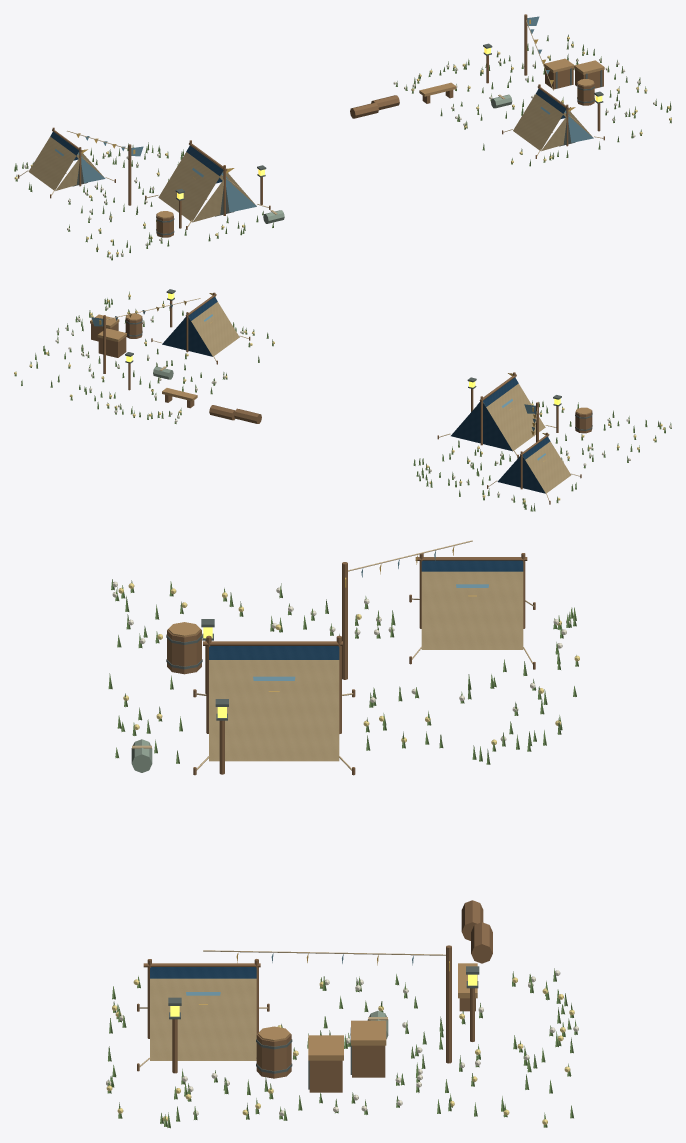
File: camp-kit.glb
The picture shows the model from 3 angles, top to bottom: view 1: azimuth 30°, elevation 25°; view 2: azimuth 150°, elevation 25°; view 3: azimuth 270°, elevation 25°; orthographic projection. The views are drawn at different scales.
Visible parts, largest first — view 1: camp-Camp-warm-canvas, camp-Camp-oak, camp-Camp-meadow-grass, camp-Camp-blue-stripe, camp-Camp-cut-wood, camp-Camp-blue-canvas, camp-Camp-iron, camp-Camp-pale-flowers, camp-Camp-meadow-flowers, camp-Camp-bedroll, camp-Camp-rope; view 2: camp-Camp-warm-canvas, camp-Camp-blue-canvas, camp-Camp-oak, camp-Camp-meadow-grass, camp-Camp-cut-wood, camp-Camp-meadow-flowers, camp-Camp-pale-flowers, camp-Camp-iron; view 3: camp-Camp-warm-canvas, camp-Camp-oak, camp-Camp-meadow-grass, camp-Camp-blue-canvas, camp-Camp-cut-wood, camp-Camp-pale-flowers, camp-Camp-meadow-flowers, camp-Camp-iron, camp-Camp-rope.
Boxes of the visible parts, left/top/right/bottom form: camp-Camp-warm-canvas: left=28, top=94, right=592, bottom=222; camp-Camp-oak: left=18, top=14, right=604, bottom=237; camp-Camp-meadow-grass: left=14, top=34, right=671, bottom=260; camp-Camp-blue-stripe: left=55, top=16, right=593, bottom=212; camp-Camp-cut-wood: left=157, top=58, right=604, bottom=218; camp-Camp-blue-canvas: left=50, top=89, right=570, bottom=183; camp-Camp-iron: left=156, top=43, right=603, bottom=235; camp-Camp-pale-flowers: left=24, top=58, right=655, bottom=258; camp-Camp-meadow-flowers: left=14, top=37, right=671, bottom=254; camp-Camp-bedroll: left=263, top=94, right=512, bottom=223; camp-Camp-rope: left=19, top=20, right=603, bottom=227; camp-Camp-warm-canvas: left=191, top=302, right=571, bottom=493; camp-Camp-blue-canvas: left=162, top=296, right=550, bottom=493; camp-Camp-oak: left=91, top=292, right=592, bottom=504; camp-Camp-meadow-grass: left=14, top=291, right=671, bottom=511; camp-Camp-cut-wood: left=90, top=313, right=591, bottom=414; camp-Camp-meadow-flowers: left=14, top=294, right=664, bottom=502; camp-Camp-pale-flowers: left=55, top=307, right=671, bottom=506; camp-Camp-iron: left=125, top=289, right=592, bottom=430; camp-Camp-warm-canvas: left=150, top=571, right=523, bottom=1060; camp-Camp-oak: left=137, top=553, right=535, bottom=1092; camp-Camp-meadow-grass: left=107, top=579, right=578, bottom=1128; camp-Camp-blue-canvas: left=150, top=560, right=523, bottom=978; camp-Camp-cut-wood: left=168, top=622, right=477, bottom=1060; camp-Camp-pale-flowers: left=106, top=581, right=578, bottom=1115; camp-Camp-meadow-flowers: left=106, top=583, right=579, bottom=1124; camp-Camp-iron: left=166, top=619, right=479, bottom=1089; camp-Camp-rope: left=132, top=540, right=534, bottom=1066.
Size of the model in its own units: 27.09 by 3.04 by 10.04.
14 materials, 2 textured.
